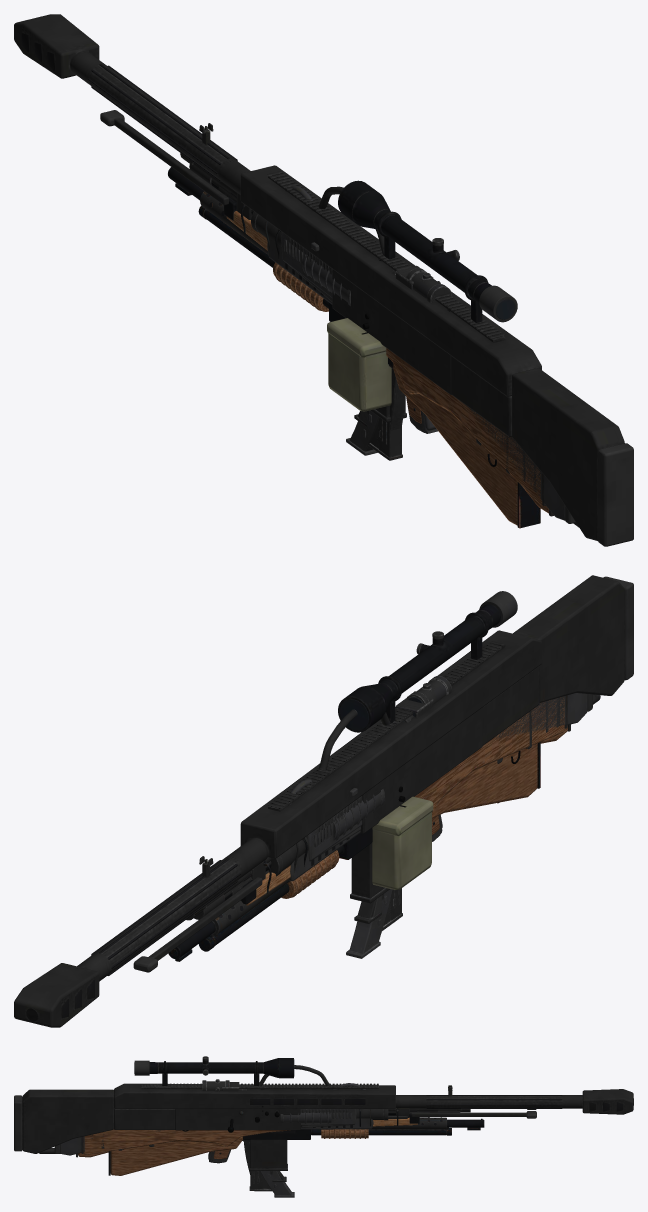
File: weapons.glb
The picture shows the model from 3 angles, top to bottom: view 1: azimuth 30°, elevation 25°; view 2: azimuth 150°, elevation 25°; view 3: azimuth 270°, elevation 25°; orthographic projection. The views are drawn at different scales.
Visible parts, largest first — view 1: barrett, m249, trench, m249_mag, garand, mp7, ak12, kar98k, ak12_mag, m4a1_mag, trench_pump, thompson_mag; view 2: barrett, m249, trench, m249_mag, garand, mp7, ak12_mag, barrett_mag, ak12, kar98k, trench_pump, m4a1 (+1 smaller); view 3: barrett, trench, m249, garand, barrett_mag, mp7, ak12, ak12_mag, kar98k, trench_pump, benelli, m4a1 (+2 smaller).
Boxes of the visible parts, x1,y1,x2,y2 form: barrett: (14,14,633,546); m249: (180,123,575,523); trench: (168,167,540,528); m249_mag: (327,313,391,411); garand: (189,163,545,505); mp7: (251,212,481,445); ak12: (218,186,525,481); kar98k: (224,196,496,466); ak12_mag: (346,410,379,455); m4a1_mag: (368,368,405,456); trench_pump: (273,262,328,311); thompson_mag: (378,418,402,460); barrett: (14,575,633,1027); m249: (186,674,592,920); trench: (168,742,540,961); m249_mag: (372,786,433,889); garand: (194,695,567,919); mp7: (268,676,502,876); ak12_mag: (346,889,392,958); barrett_mag: (350,843,389,903); ak12: (231,701,548,895); kar98k: (241,732,520,905); trench_pump: (281,850,339,898); m4a1: (242,698,531,881); barrett: (14,1056,633,1163); trench: (108,1117,484,1175); m249: (54,1083,470,1160); garand: (81,1109,460,1154); barrett_mag: (249,1139,287,1170); mp7: (149,1079,388,1161); ak12: (101,1089,429,1148); ak12_mag: (260,1171,294,1197); kar98k: (156,1089,419,1146); trench_pump: (321,1129,368,1138); benelli: (90,1113,395,1138); m4a1: (118,1082,418,1150).
Size of the model in its own units: 0.1245 by 0.449 by 1.83.
14 materials, 12 textured.
